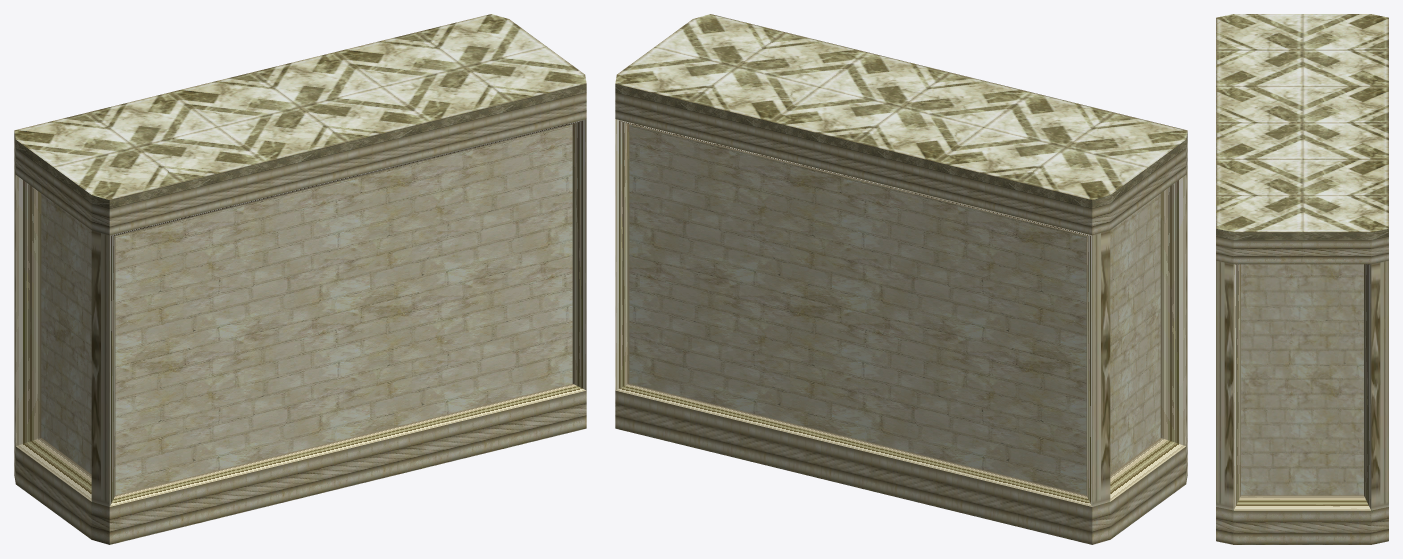
Rendered from lv9_moobkai.dae.
The picture shows the model from 3 angles, left to right: view 1: azimuth 30°, elevation 25°; view 2: azimuth 150°, elevation 25°; view 3: azimuth 270°, elevation 25°; orthographic projection. The views are drawn at different scales.
Parts seen in each view (by area): view 1: Shape 2, Shape 5, Shape 3, Shape 0, Shape 1, Shape 4; view 2: Shape 2, Shape 5, Shape 3, Shape 0, Shape 1, Shape 4; view 3: Shape 5, Shape 2, Shape 3, Shape 1, Shape 0, Shape 4.
Part boxes in pixels (x1=…): Shape 2: x1=41, y1=124, x2=572, y2=495; Shape 5: x1=14, y1=14, x2=586, y2=199; Shape 3: x1=14, y1=92, x2=586, y2=544; Shape 0: x1=15, y1=119, x2=586, y2=506; Shape 1: x1=14, y1=167, x2=109, y2=506; Shape 4: x1=14, y1=84, x2=586, y2=208; Shape 2: x1=629, y1=124, x2=1160, y2=495; Shape 5: x1=615, y1=14, x2=1187, y2=200; Shape 3: x1=615, y1=92, x2=1187, y2=544; Shape 0: x1=615, y1=119, x2=1186, y2=506; Shape 1: x1=1092, y1=167, x2=1187, y2=506; Shape 4: x1=615, y1=84, x2=1187, y2=208; Shape 5: x1=1216, y1=14, x2=1388, y2=232; Shape 2: x1=1241, y1=264, x2=1363, y2=495; Shape 3: x1=1216, y1=236, x2=1388, y2=544; Shape 1: x1=1216, y1=260, x2=1388, y2=510; Shape 0: x1=1233, y1=264, x2=1371, y2=510; Shape 4: x1=1216, y1=228, x2=1388, y2=240.
Bounding box in the file's own units: 899 × 600 × 301.
